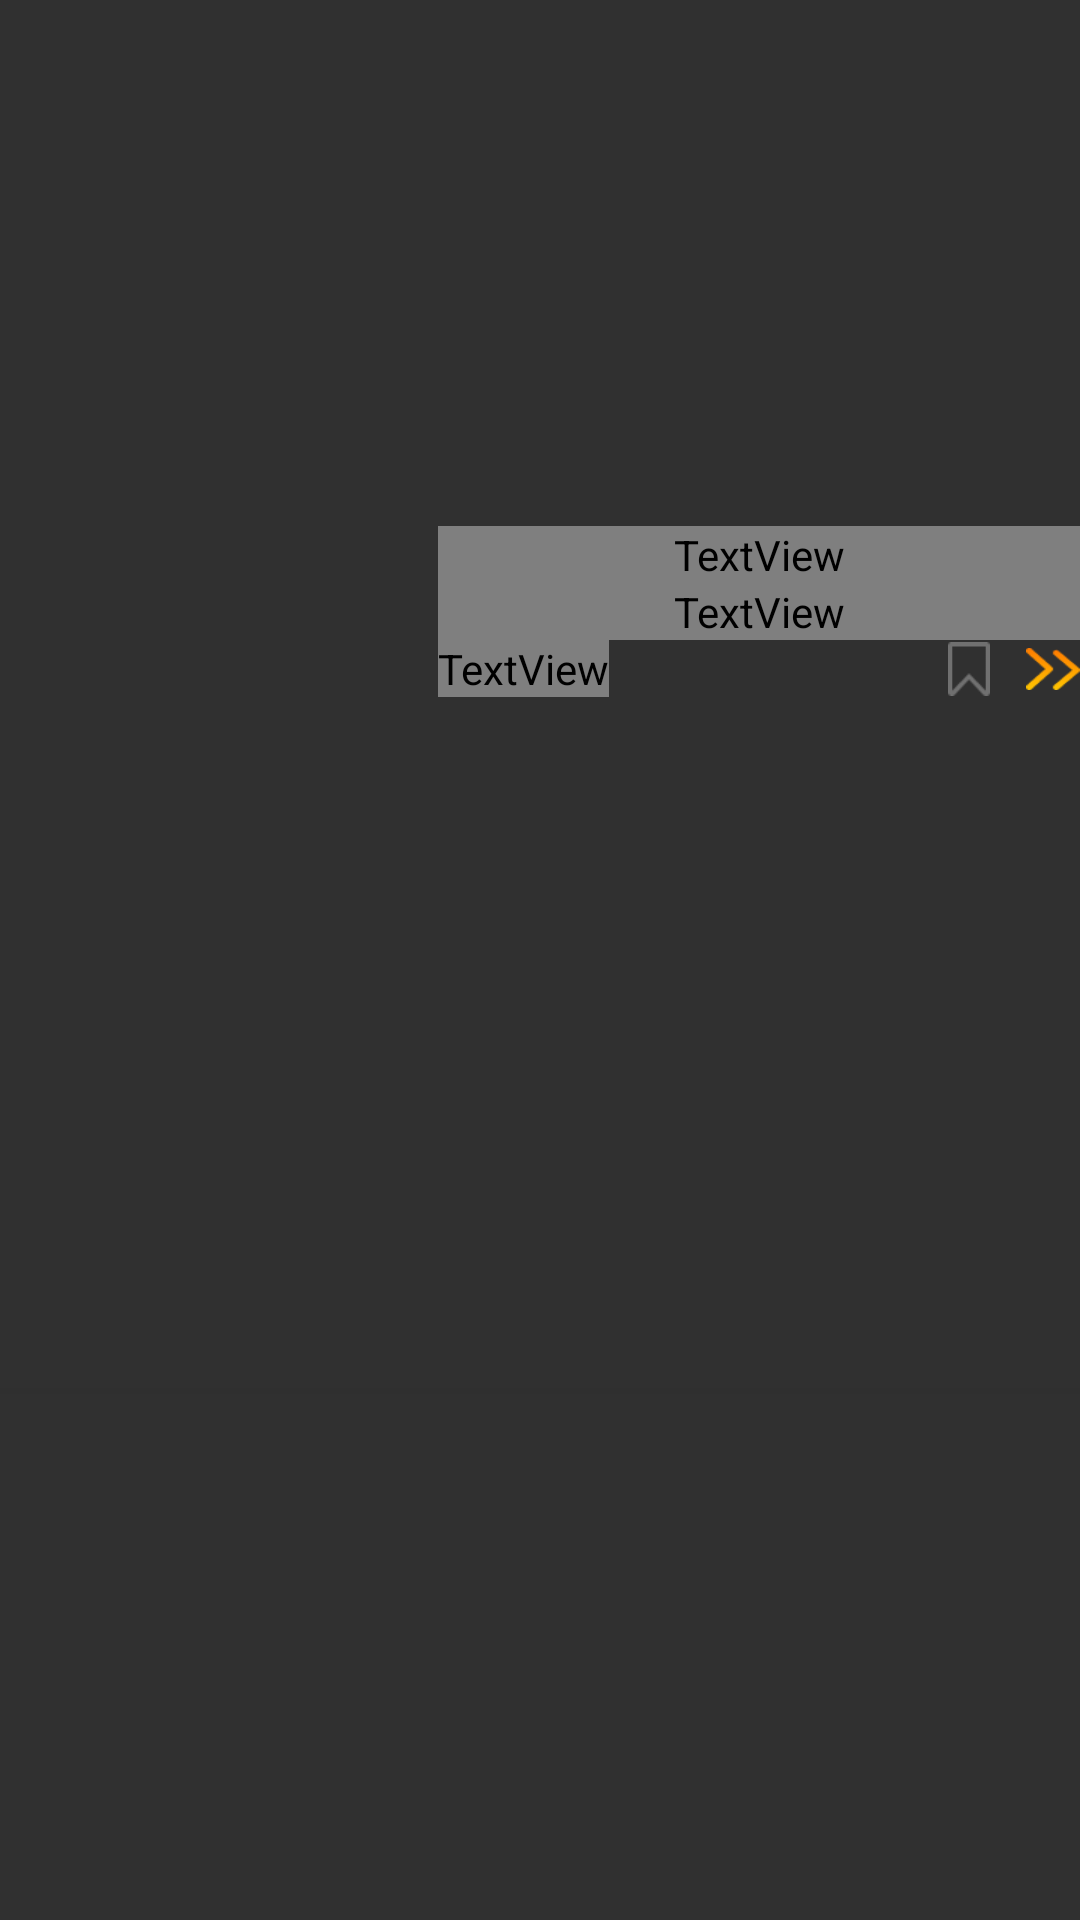

Named icons in this screenshot (1080 × 1920) and their centers, [x,y]:
arrows kavedarm: [1053,669]
